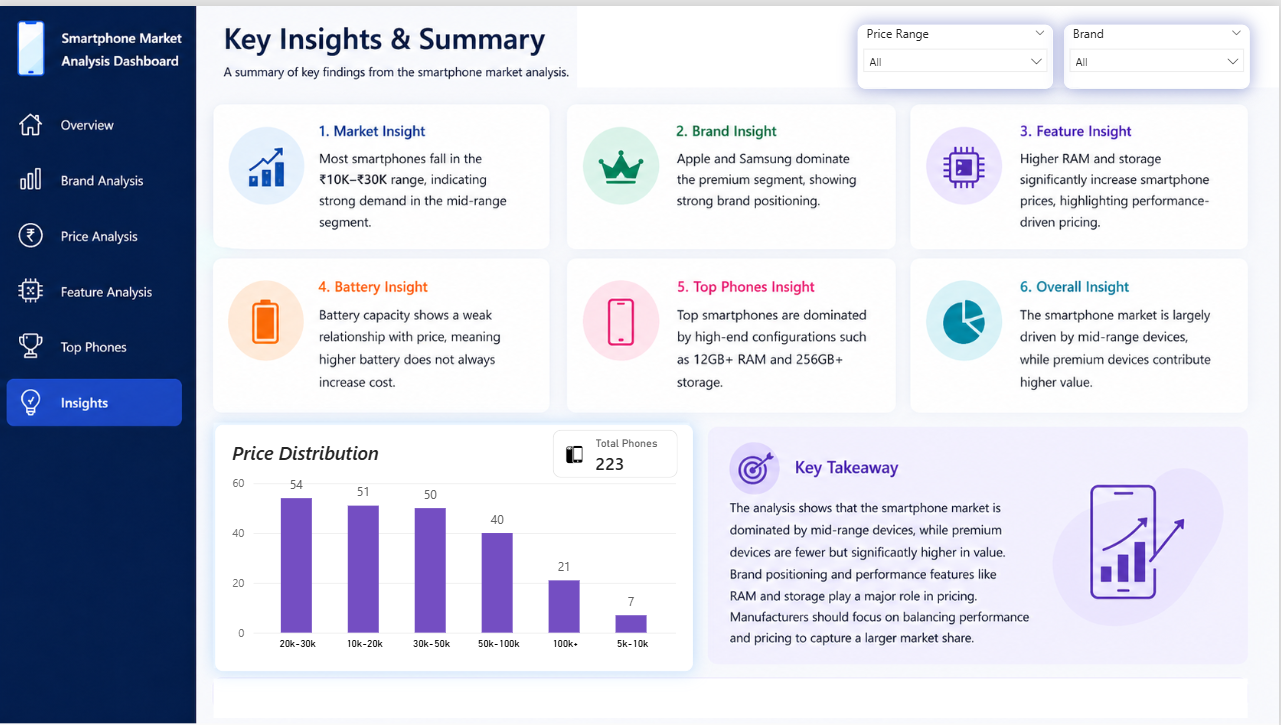

Layout of this report page (visuals, bound fields, positions):
{"tool":"powerbi","page":{"name":"Insights","canvas":[1280,720],"ordinal":5},"visuals":[{"type":"columnChart","title":"Price Distribution","fields":{"Category":["Phone_Specs.Price_Range"],"Y":["CountNonNull(Phone_Specs.phone_name)"]},"box":[216,418.6,477.8,246.1],"z":0},{"type":"slicer","fields":{"Values":["Phone_Specs.brand"]},"box":[1065.3,19.3,185.8,63.9],"z":1000},{"type":"slicer","fields":{"Values":["Phone_Specs.Price_Range"]},"box":[859,19.3,195.4,63.9],"z":2000},{"type":"cardVisual","fields":{"Data":["CountNonNull(Phone_Specs.phone_name)"]},"box":[553.8,423.8,125,48.8],"z":3000},{"type":"actionButton","box":[15,97.5,147.5,45],"z":4000},{"type":"actionButton","box":[18.8,153.8,147.5,46.2],"z":5000},{"type":"actionButton","box":[15,213.8,147.5,45],"z":6000},{"type":"actionButton","box":[8.8,258.8,158.8,46.2],"z":7000},{"type":"actionButton","box":[9.2,317.9,158,45.8],"z":8000}]}

Visuals, with their boxes on the page's 1280x720 design canvas (x1, y1, x2, y2). These are canvas units, not pixel positions in the 1281x725 screenshot, which may show the page scaled, cropped or inside an application window:
"Price Distribution" columnChart: [left=216, top=419, right=694, bottom=665]
slicer - Phone_Specs.brand: [left=1065, top=19, right=1251, bottom=83]
slicer - Phone_Specs.Price_Range: [left=859, top=19, right=1054, bottom=83]
cardVisual - CountNonNull(Phone_Specs.phone_name): [left=554, top=424, right=679, bottom=473]
actionButton: [left=15, top=98, right=162, bottom=142]
actionButton: [left=19, top=154, right=166, bottom=200]
actionButton: [left=15, top=214, right=162, bottom=259]
actionButton: [left=9, top=259, right=168, bottom=305]
actionButton: [left=9, top=318, right=167, bottom=364]
